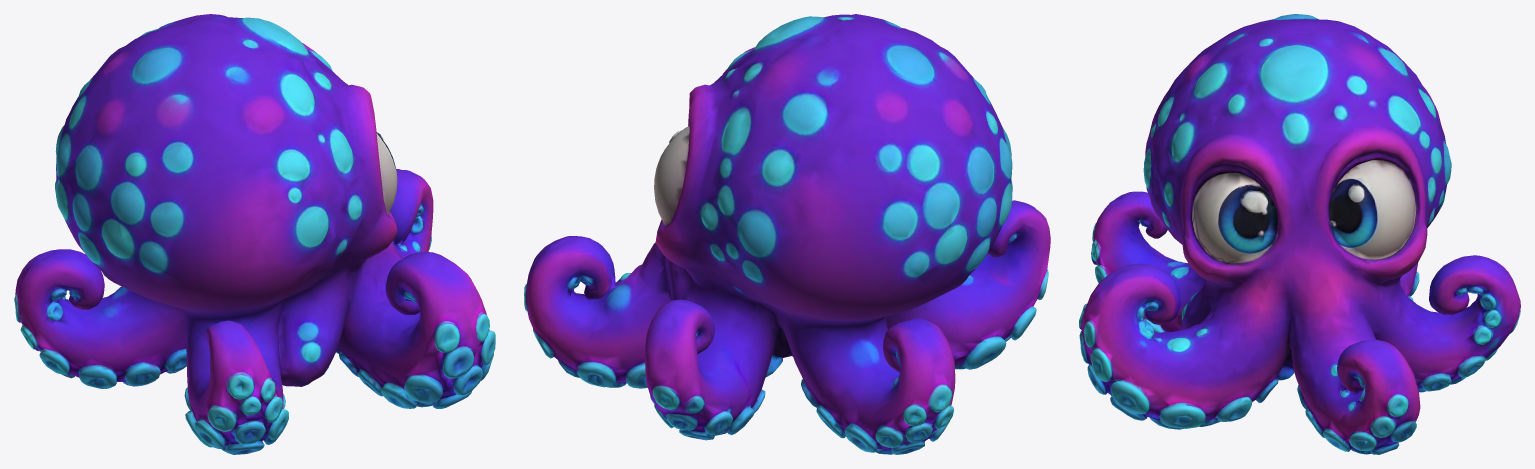
The model's file is kraken.glb.
3 renders of one model, left to right at view 1: azimuth 30°, elevation 25°; view 2: azimuth 150°, elevation 25°; view 3: azimuth 270°, elevation 25°, orthographic. The views are drawn at different scales.
Parts seen in each view (by area): view 1: tripo_node_77d11eaa-1792-4823-b8f2-2710a8531965; view 2: tripo_node_77d11eaa-1792-4823-b8f2-2710a8531965; view 3: tripo_node_77d11eaa-1792-4823-b8f2-2710a8531965.
Part boxes in pixels (x1,y1,x2,y2): tripo_node_77d11eaa-1792-4823-b8f2-2710a8531965: [14, 14, 495, 454]; tripo_node_77d11eaa-1792-4823-b8f2-2710a8531965: [524, 14, 1050, 454]; tripo_node_77d11eaa-1792-4823-b8f2-2710a8531965: [1079, 14, 1520, 454].
Bounding box in the file's own units: 0.9948 × 0.8399 × 0.9985.
1 material, 1 textured.
